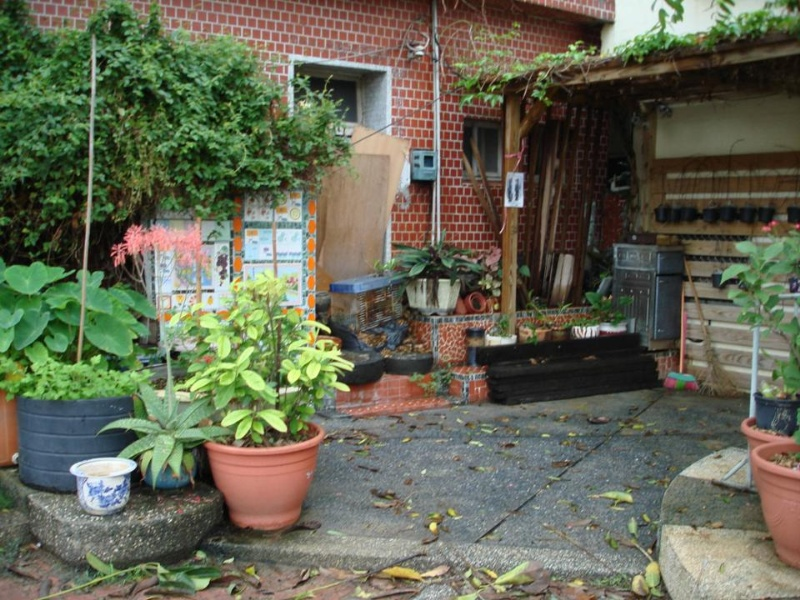bowl: (63, 456, 138, 515)
tire: (379, 350, 433, 375)
